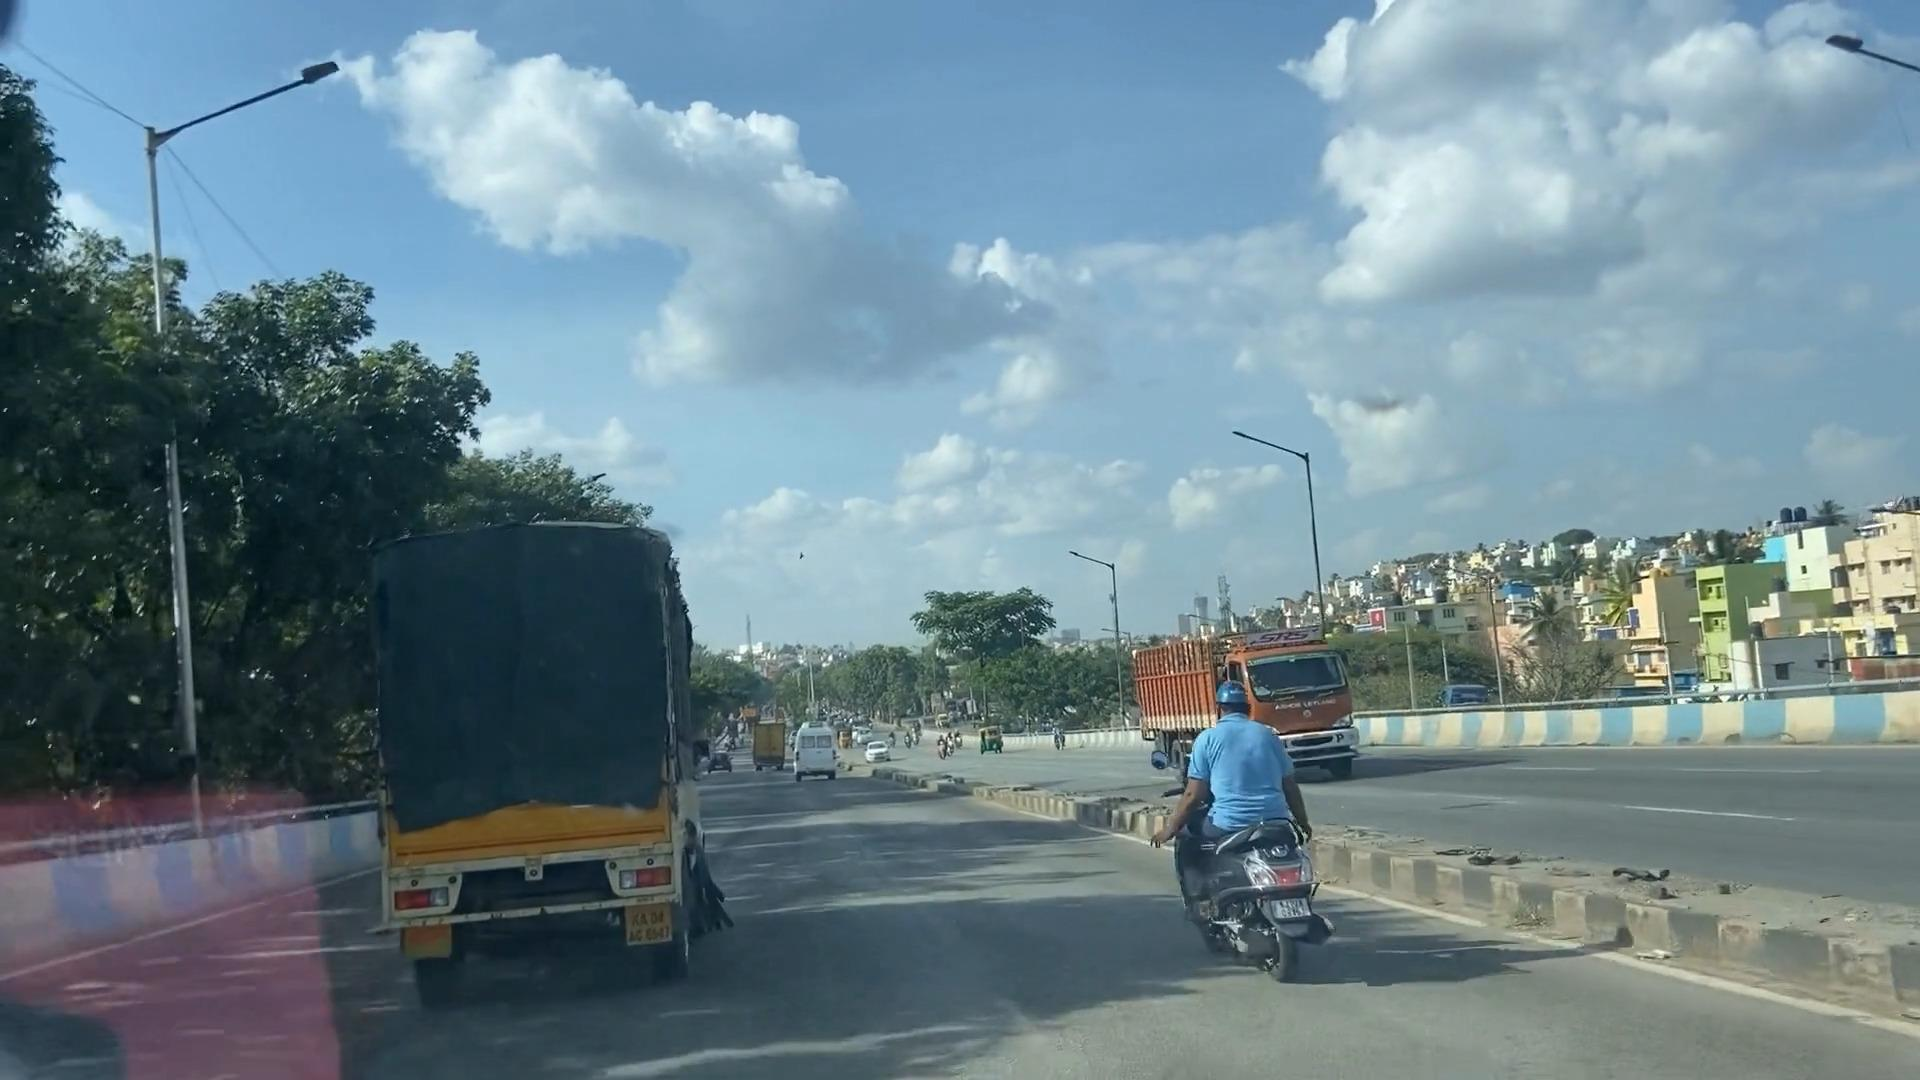HMV: (332, 518, 716, 965)
LMV: (1162, 658, 1313, 965)
